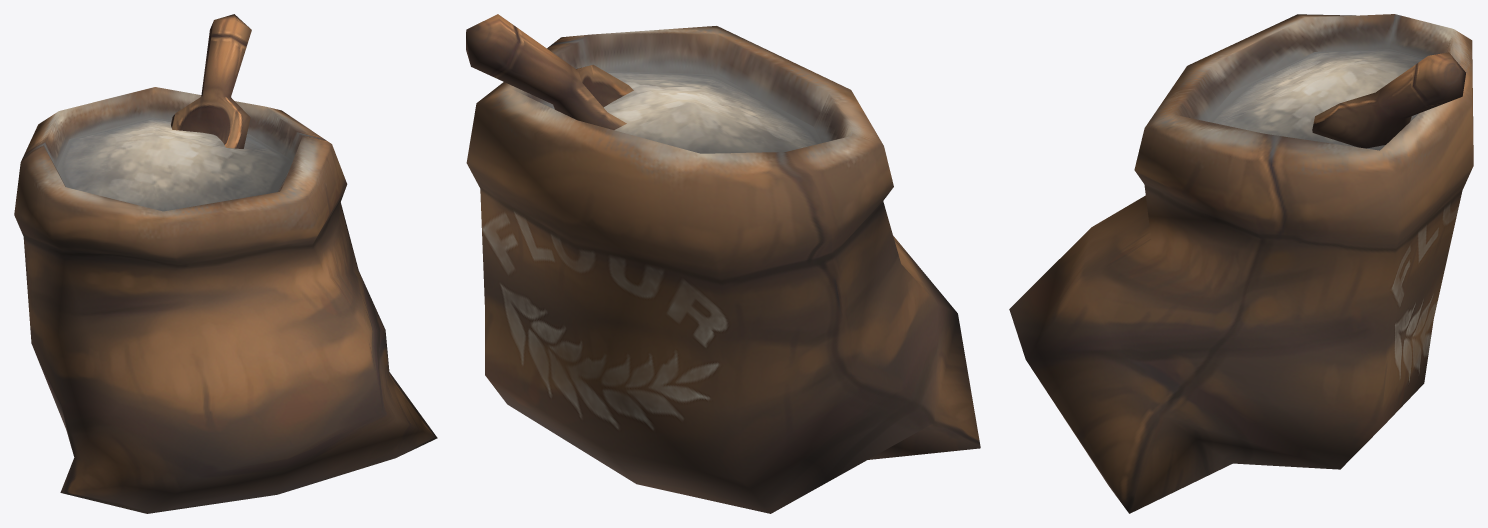
Rendered from sack_of_flour_large2.fbx.
3 renders of one model, left to right at view 1: azimuth 30°, elevation 25°; view 2: azimuth 150°, elevation 25°; view 3: azimuth 270°, elevation 25°, orthographic. The views are drawn at different scales.
Visible parts, largest first — view 1: sack_of_flour_large2; view 2: sack_of_flour_large2; view 3: sack_of_flour_large2.
Part boxes in pixels (x1,y1,x2,y2): sack_of_flour_large2: [14, 14, 437, 513]; sack_of_flour_large2: [466, 14, 980, 513]; sack_of_flour_large2: [1009, 14, 1473, 513].
Bounding box in the file's own units: 94.01 × 91.38 × 90.64.
